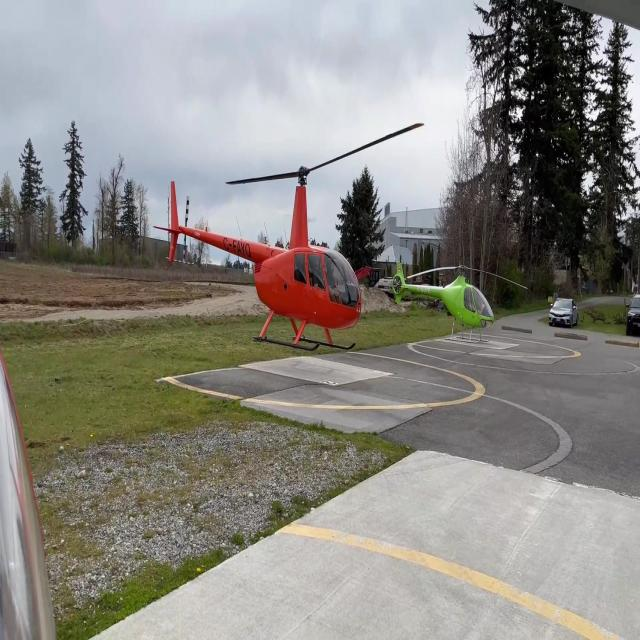CIV_HELO: (153, 164, 363, 356)
